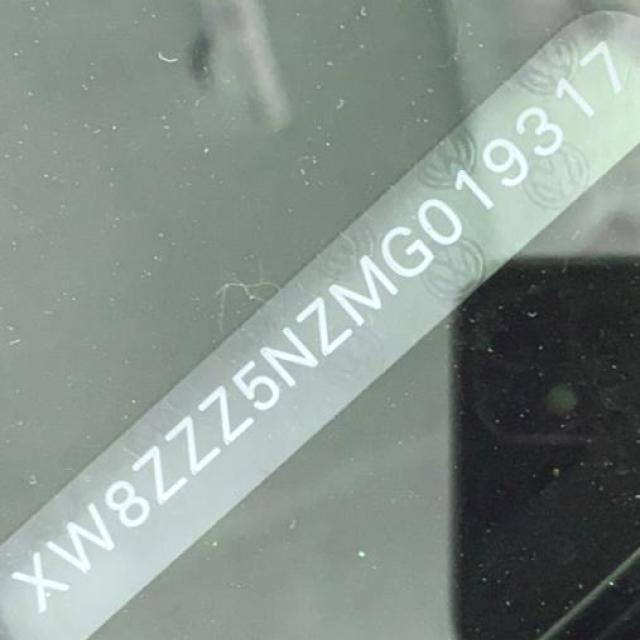0: (405, 178, 477, 253)
1: (440, 158, 505, 222), (536, 70, 604, 131)
3: (501, 96, 576, 165)
5: (218, 351, 293, 425)
7: (570, 34, 638, 108)
8: (94, 468, 161, 540)
9: (470, 127, 537, 196)
G: (367, 213, 445, 288)
M: (315, 244, 409, 333)
N: (248, 319, 323, 392)
W: (37, 499, 127, 586)
X: (3, 544, 79, 623)
Z: (285, 291, 362, 363), (156, 409, 231, 482), (124, 440, 194, 514), (191, 378, 263, 449)
